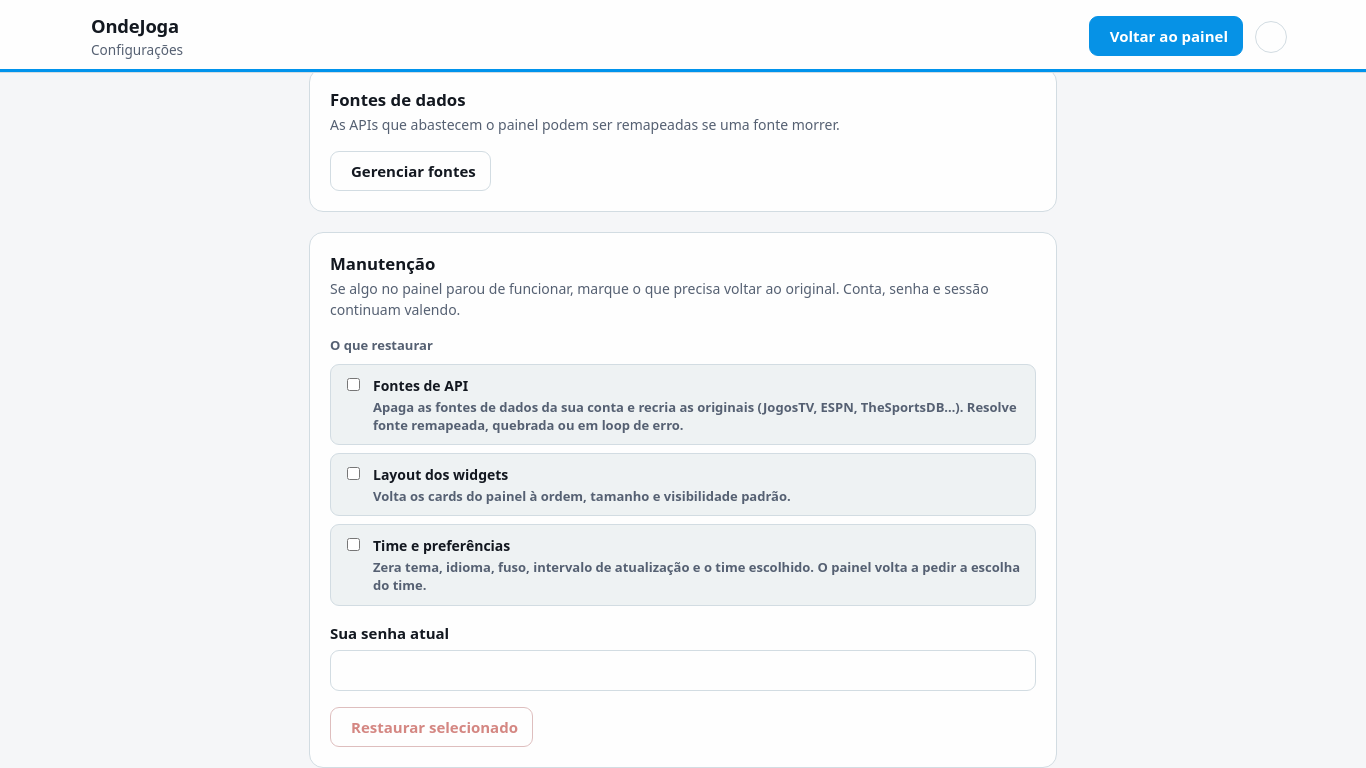
Test case: tela de Configurações › envia vários itens de uma vez e confirma o que foi restaurado
(page scrolled)
Click the checkbox labelled "Fontes de API" at (354, 384), box 347,378 -> 360,391
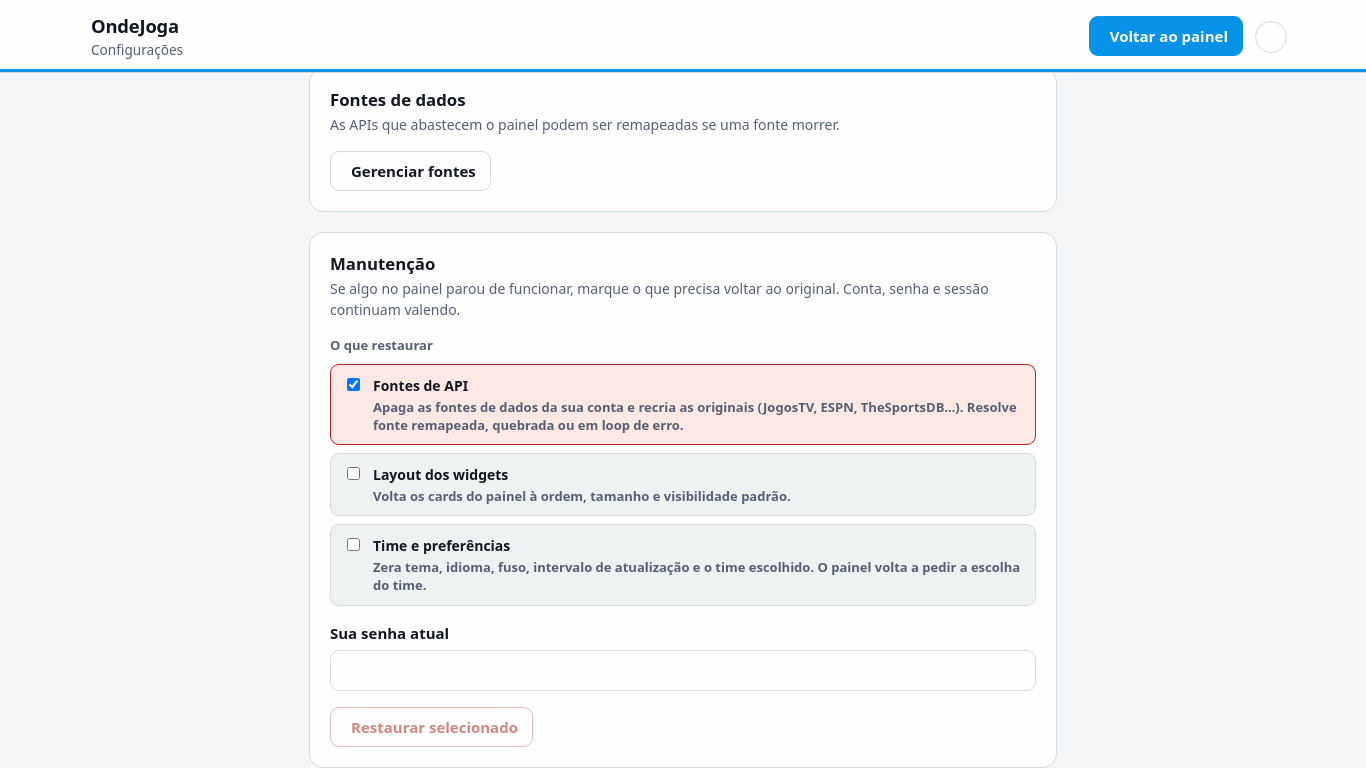
Click the checkbox labelled "Layout dos widgets" at (354, 473), box 347,467 -> 360,480
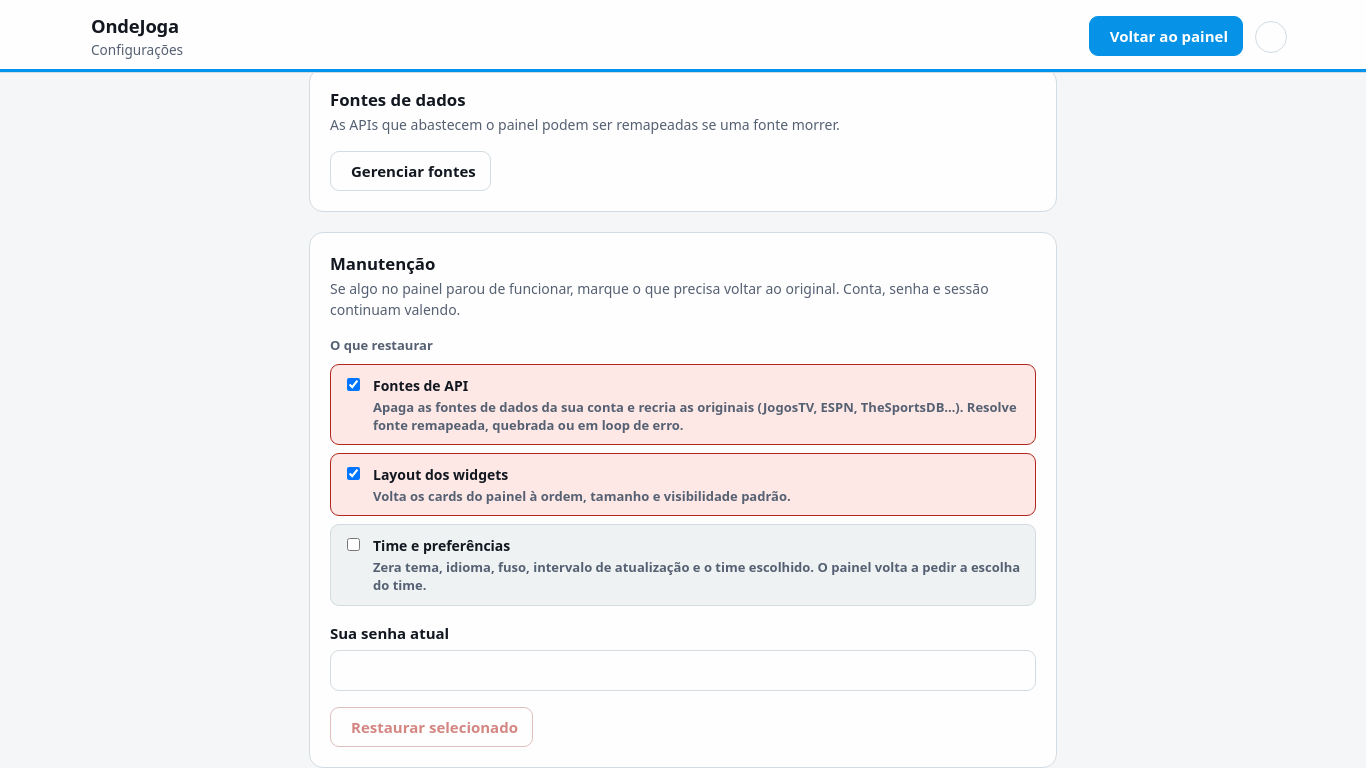
Type "segredo123" into the password field labelled "Sua senha atual" at (683, 670), box 330,650 -> 1036,690
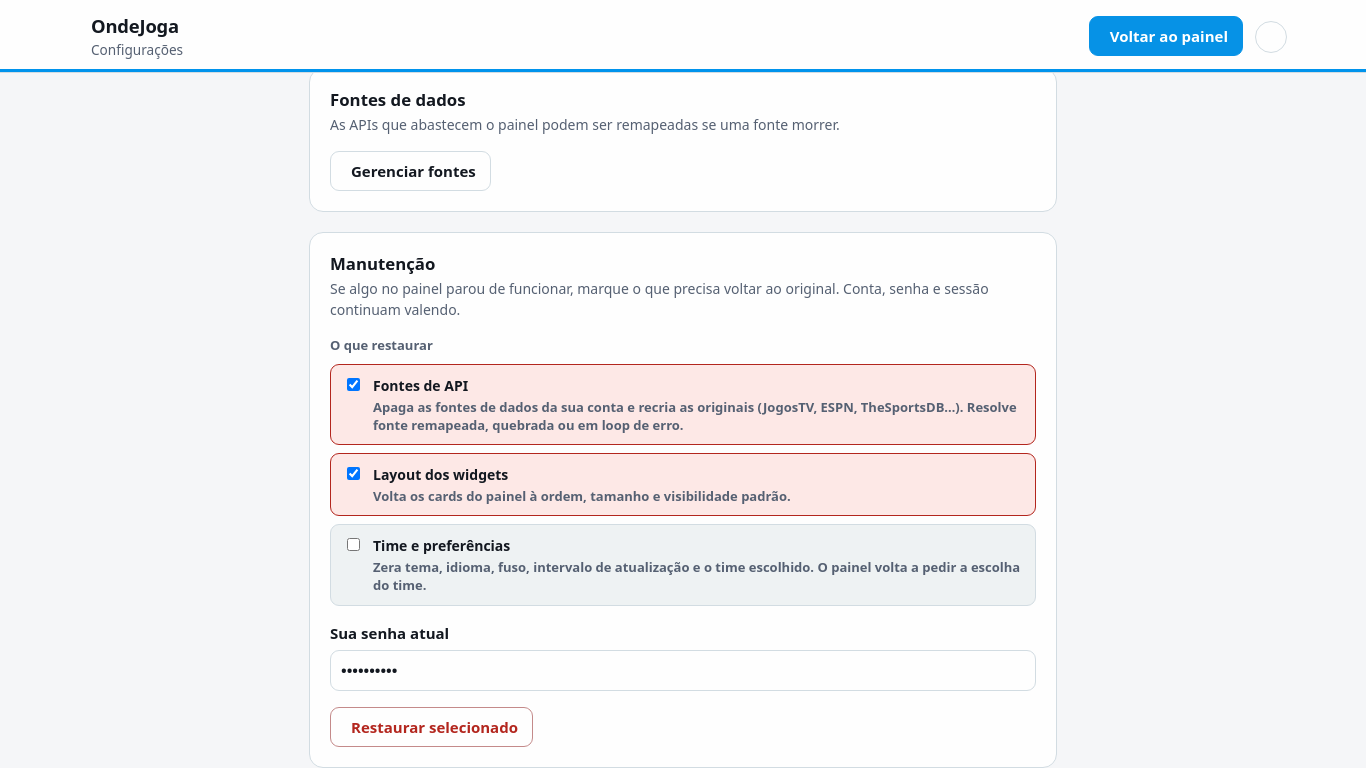
Click the button "Restaurar selecionado" at (432, 727), box 330,706 -> 533,747
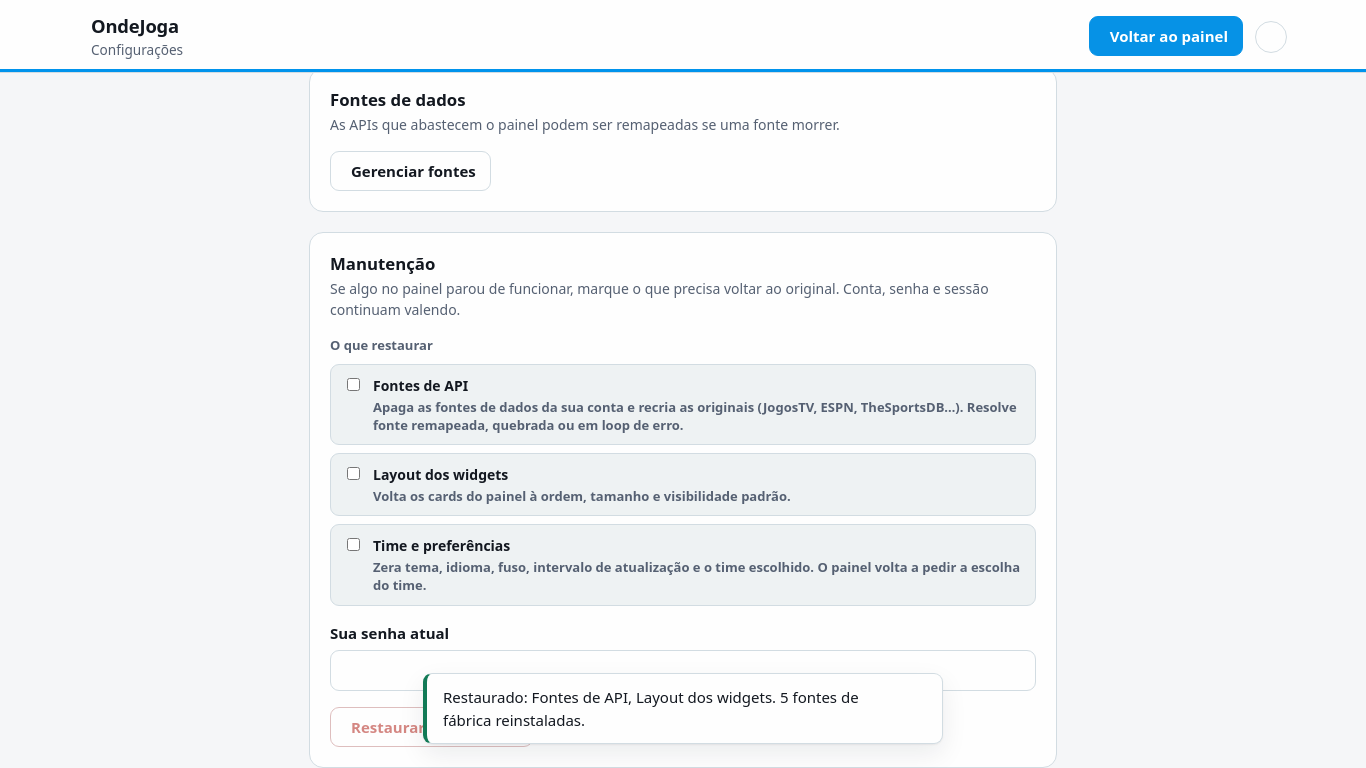
Expected: the text "5 fontes de fábrica reinstaladas" is shown, 443,687 -> 859,730
